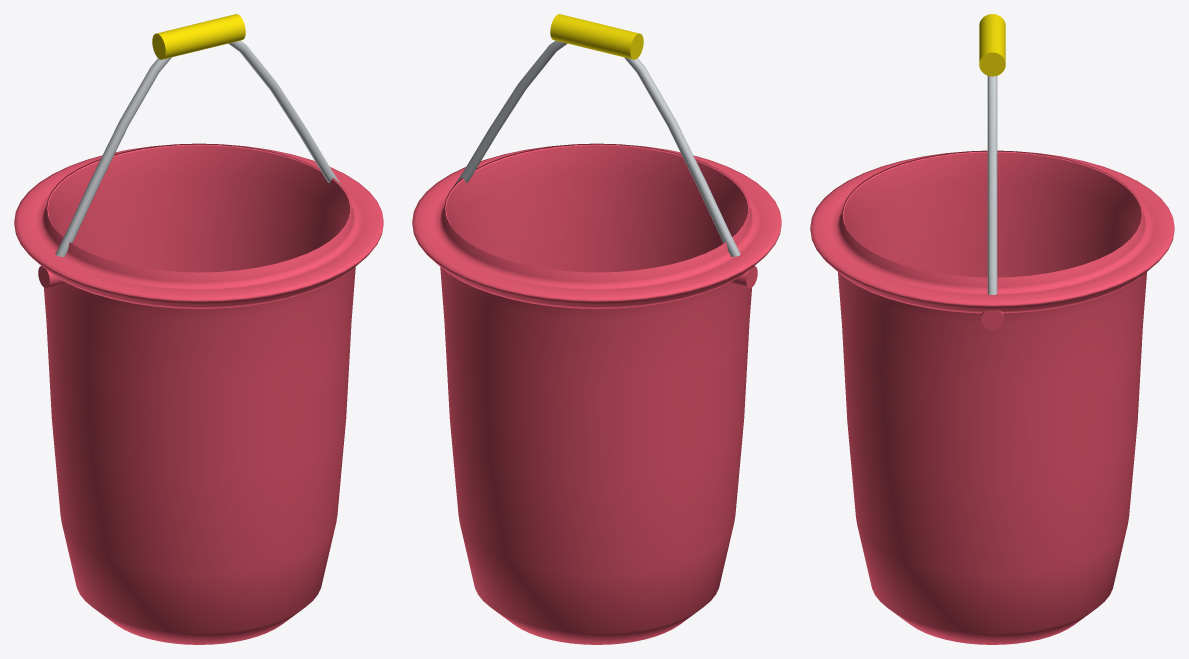
The model's file is red-sand-castle-bucket.glb.
3 views of the same model, side by side, from view 1: azimuth 30°, elevation 25°; view 2: azimuth 150°, elevation 25°; view 3: azimuth 270°, elevation 25° (orthographic).
Visible parts, largest first — view 1: Pail Body, Handle Wire, Handle Grip; view 2: Pail Body, Handle Wire, Handle Grip; view 3: Pail Body, Handle Wire, Handle Grip.
Part boxes in pixels (x1,y1,x2,y2): Pail Body: (14,143,383,644); Handle Wire: (55,40,342,256); Handle Grip: (152,14,245,59); Pail Body: (412,143,781,644); Handle Wire: (453,40,740,256); Handle Grip: (550,14,643,59); Pail Body: (810,150,1174,644); Handle Wire: (987,76,997,294); Handle Grip: (979,14,1005,76).
Bounding box in the file's own units: 0.192 × 0.3324 × 0.192.
